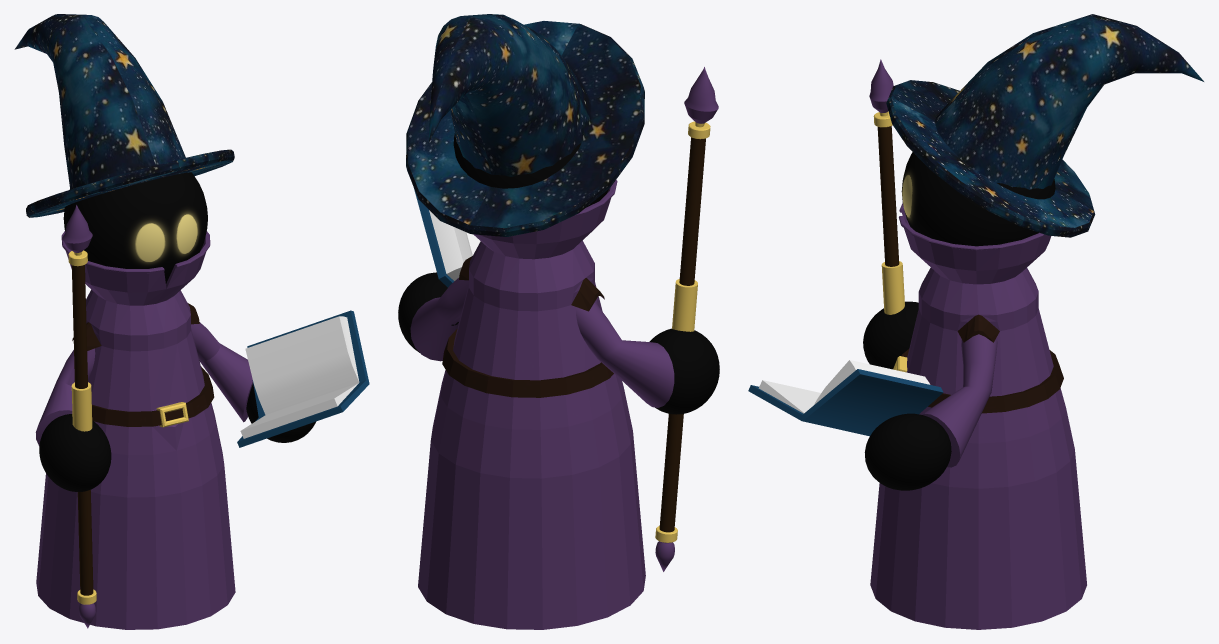
File: test1animatedenemy.fbx
3 renders of one model, left to right at view 1: azimuth 30°, elevation 25°; view 2: azimuth 150°, elevation 25°; view 3: azimuth 270°, elevation 25°, orthographic. The views are drawn at different scales.
Visible parts, largest first — view 1: polySurface3, polySurface10, polySurface2, polySurface12, polySurface4, polySurface1, polySurface9; view 2: polySurface3, polySurface10, polySurface2, polySurface1, polySurface12, polySurface4, polySurface9; view 3: polySurface3, polySurface10, polySurface12, polySurface2, polySurface4, polySurface9, polySurface1.
Part boxes in pixels (x1=…): polySurface3: x1=36, y1=231, x2=235, y2=629; polySurface10: x1=14, y1=14, x2=234, y2=217; polySurface2: x1=35, y1=205, x2=111, y2=628; polySurface12: x1=237, y1=310, x2=369, y2=447; polySurface4: x1=63, y1=172, x2=207, y2=283; polySurface1: x1=191, y1=322, x2=252, y2=422; polySurface9: x1=246, y1=383, x2=316, y2=442; polySurface3: x1=418, y1=179, x2=645, y2=629; polySurface10: x1=406, y1=14, x2=644, y2=236; polySurface2: x1=576, y1=67, x2=719, y2=571; polySurface1: x1=410, y1=278, x2=468, y2=361; polySurface12: x1=414, y1=188, x2=480, y2=287; polySurface4: x1=453, y1=133, x2=608, y2=207; polySurface9: x1=398, y1=272, x2=447, y2=352; polySurface3: x1=870, y1=203, x2=1086, y2=629; polySurface10: x1=886, y1=14, x2=1203, y2=237; polySurface12: x1=748, y1=360, x2=943, y2=436; polySurface2: x1=863, y1=59, x2=918, y2=369; polySurface4: x1=901, y1=152, x2=1055, y2=246; polySurface9: x1=864, y1=413, x2=951, y2=490; polySurface1: x1=921, y1=334, x2=997, y2=467.
Size of the model in its own units: 6.82 by 12.11 by 8.82.
